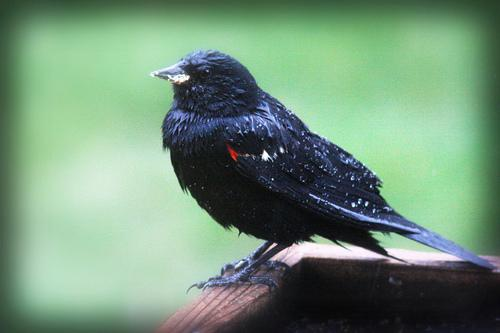010.Red_winged_Blackbird: (150, 49, 495, 291)
